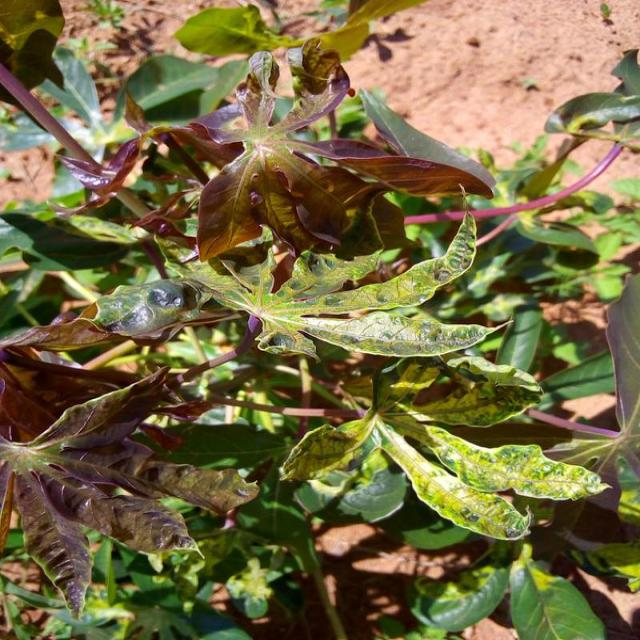cassava leaf: (1, 17, 615, 621), (0, 346, 260, 620)
